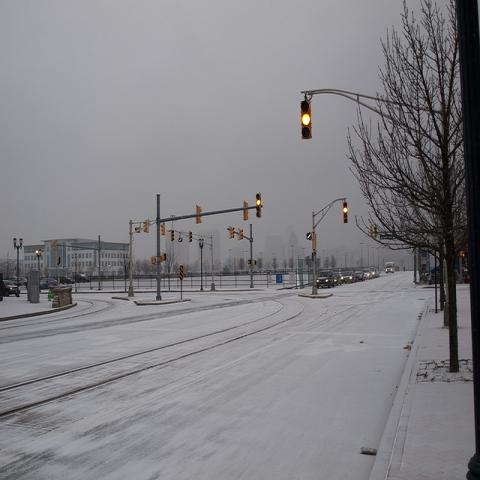bus: (386, 262, 395, 273)
car: (3, 279, 21, 298), (340, 271, 356, 283), (40, 278, 57, 289), (333, 271, 342, 286), (354, 270, 365, 282), (362, 267, 373, 279), (370, 267, 380, 278), (61, 277, 76, 284), (76, 273, 86, 282)
truck: (316, 269, 335, 289), (385, 261, 395, 274)
